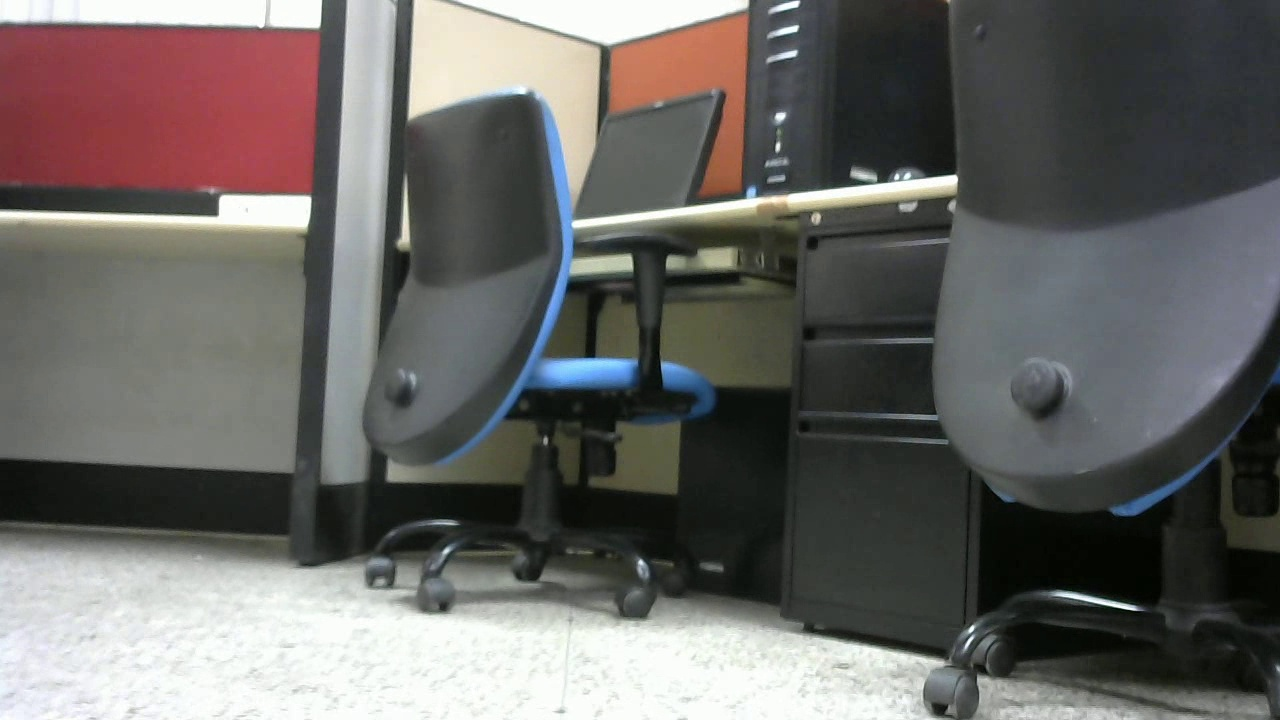chair: (358, 81, 722, 622)
